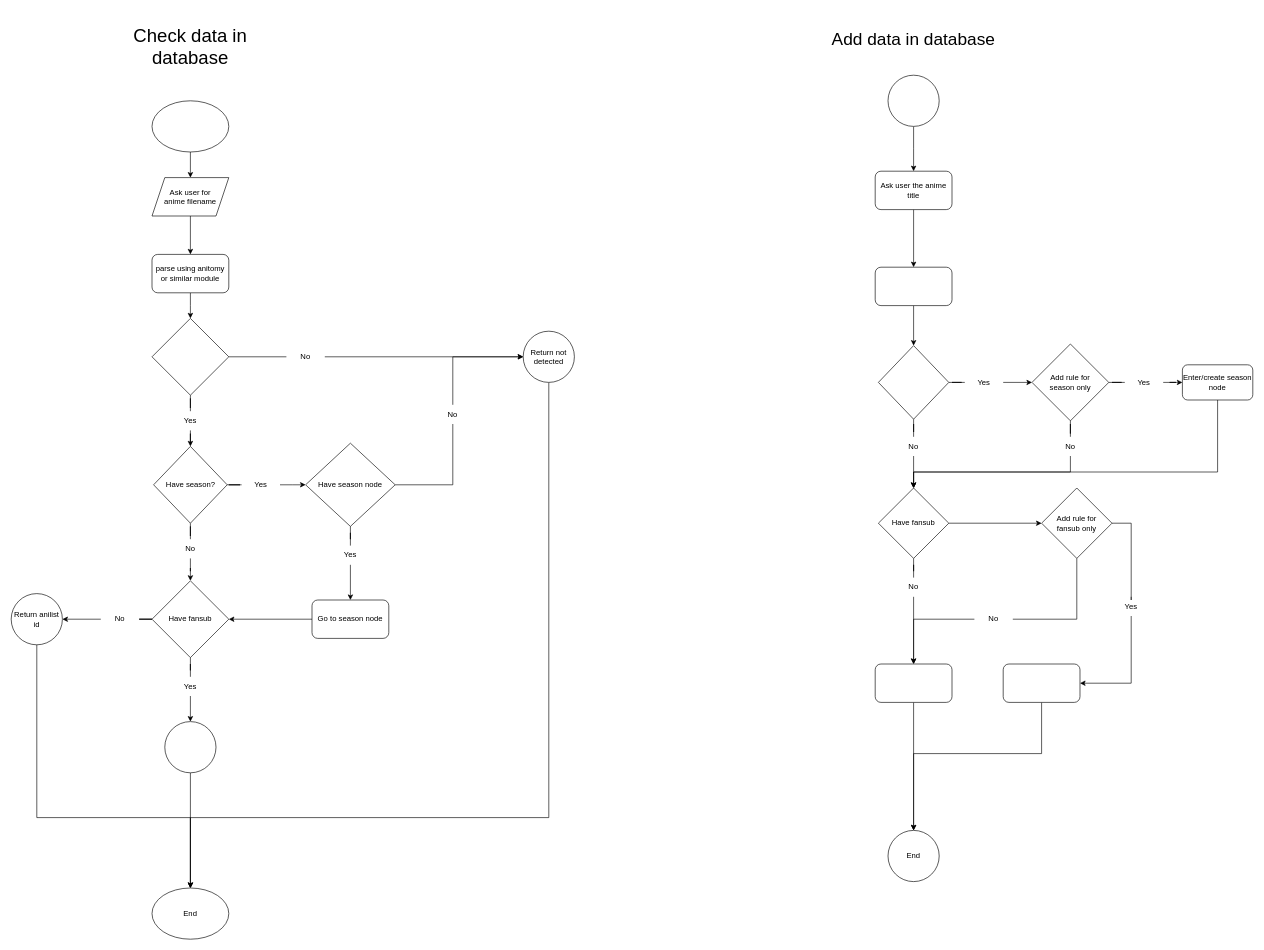
The diagram is 1264 pixels wide and 950 high, and some of its shapes have lost their labels. Each missing label, with the centre of its shape:
"Anime in database?" goes at point 190,356.
"Entering/create anime title node." goes at point 913,286.
"Have season" goes at point 913,382.
"On not detected" goes at point 913,100.
"Return fansub anilist id" goes at point 190,747.
"Set fansub anilist id" goes at point 1041,682.
"Set the anilist id" goes at point 913,682.
"Start" goes at point 190,126.
